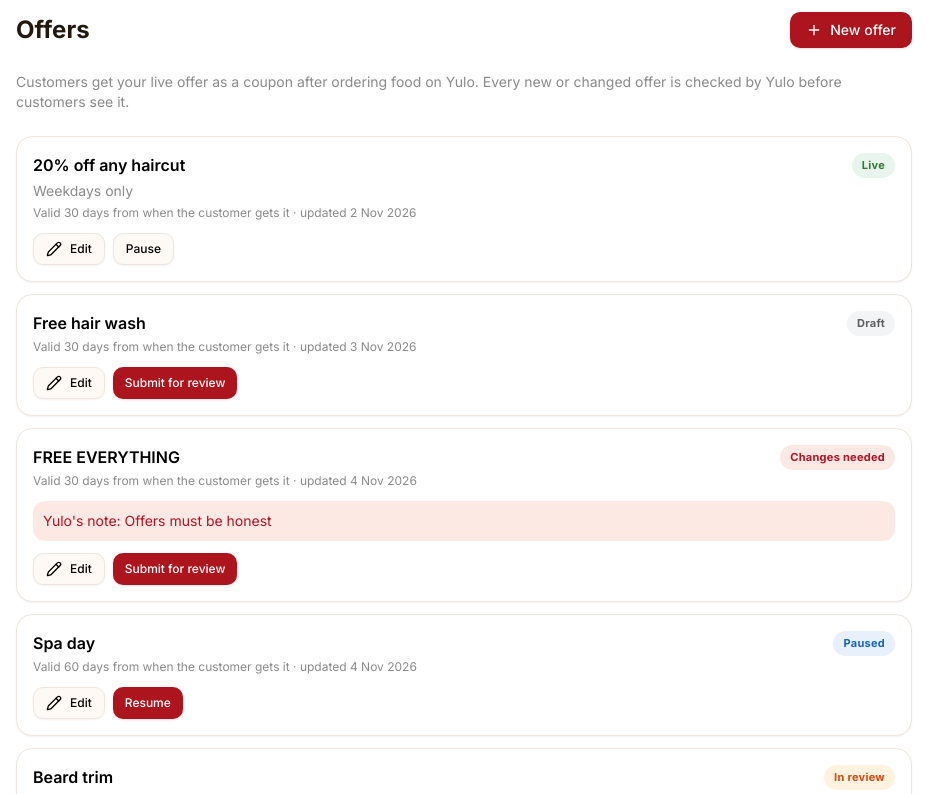
Test: Offers › a refused action shows the server's reason on that offer
This screenshot has width=929, height=794.
Click the button "Pause" at (143, 249), box [113,233,174,265]
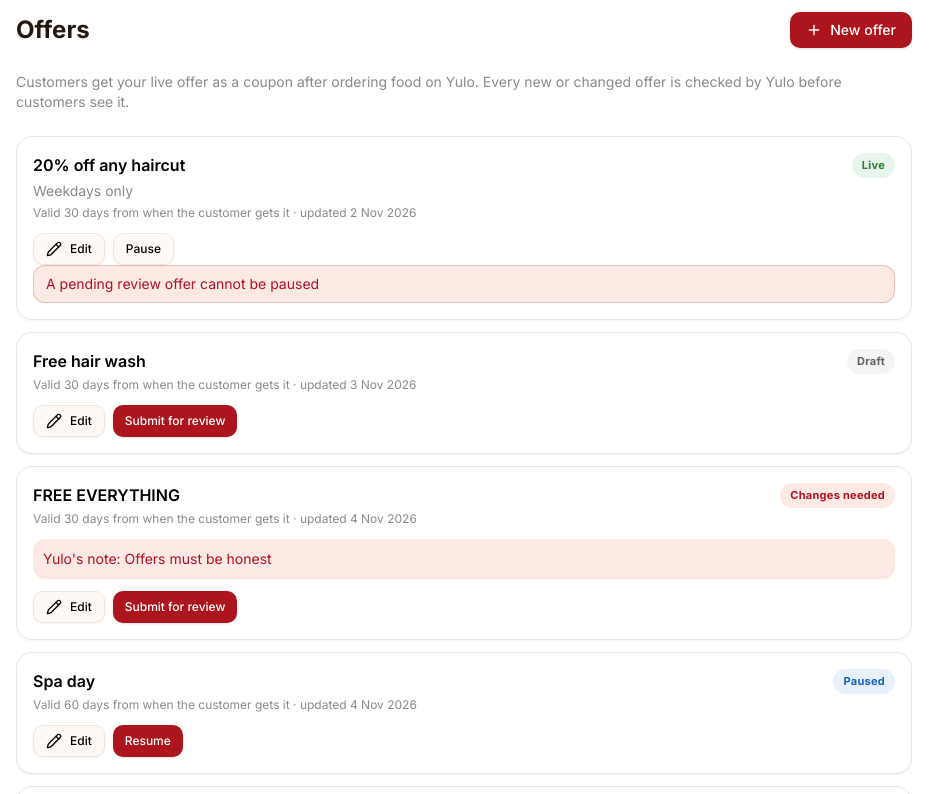
Expected: the message shows "cannot be paused", [46,275,319,292]
